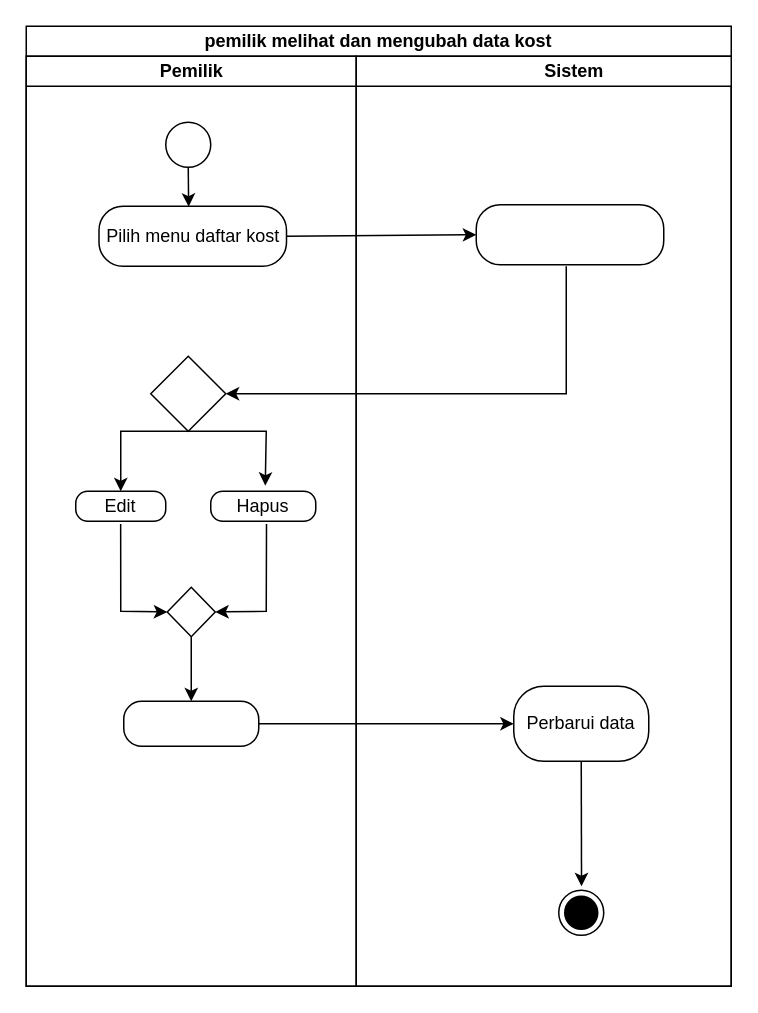
Some shapes in this 758 by 1013 pixel diagram are drawn without their labels. The centre of each missing label's shape, as x and y in pixels:
Menampilkan daftar data kost: pixel 569 234
Pilih: pixel 187 393
Tekan simpan: pixel 190 723
